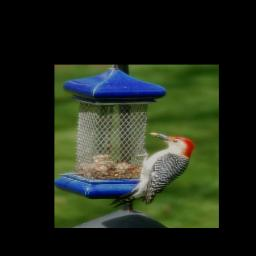Woodpecker: (104, 129, 194, 211)
